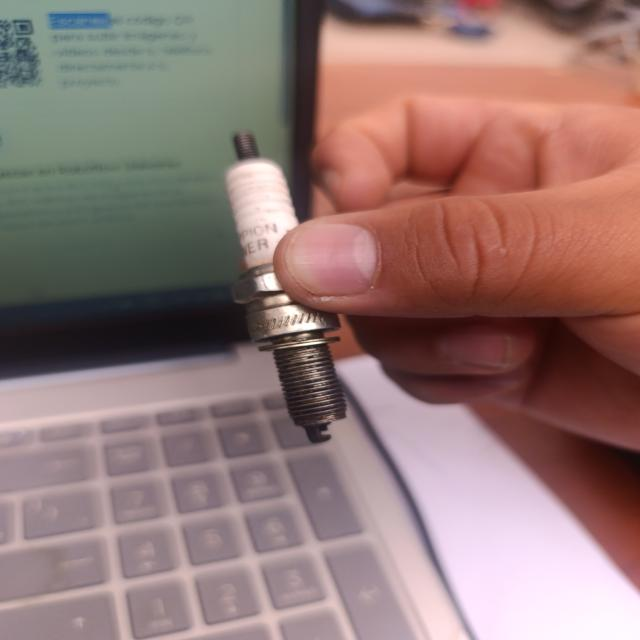bujia: (225, 131, 346, 443)
